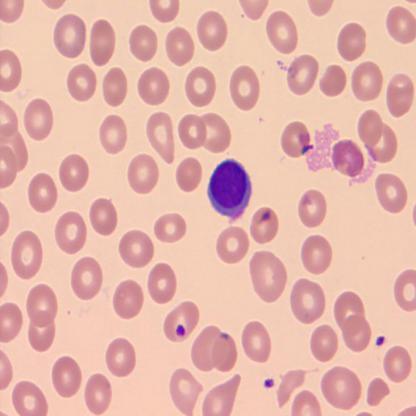Lymphocyte: (207, 158, 253, 224)
